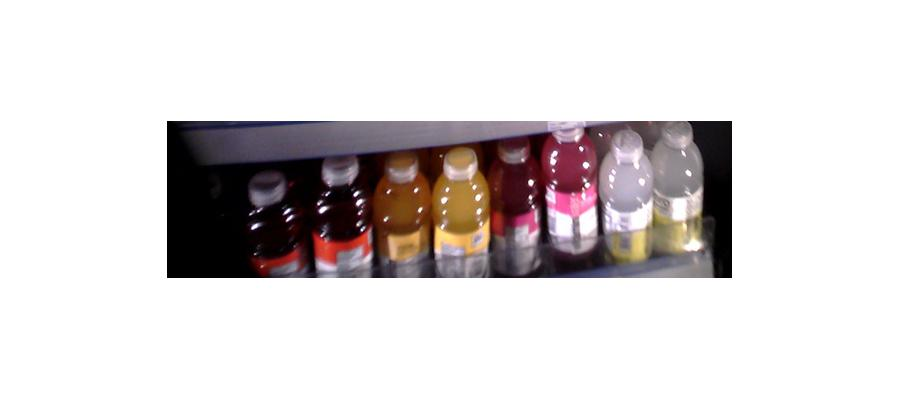bottle: (543, 120, 602, 270), (308, 155, 371, 281), (432, 148, 490, 277), (372, 155, 431, 281), (490, 138, 542, 276), (241, 165, 304, 278), (653, 123, 704, 262), (603, 132, 653, 264)
